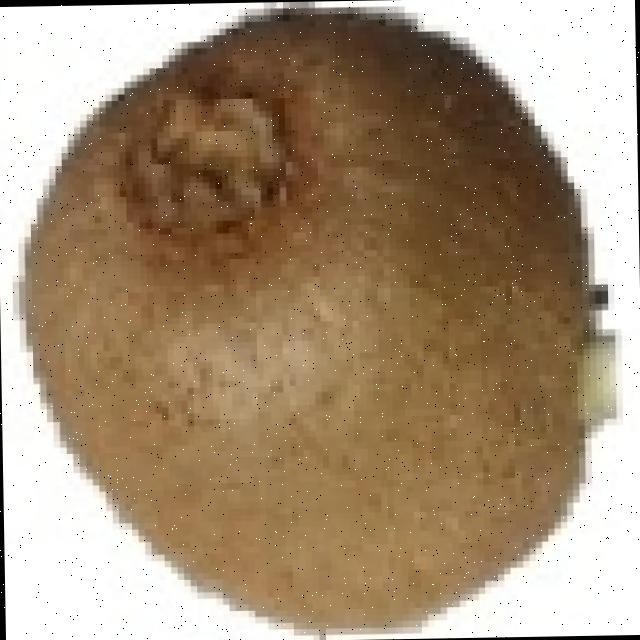kiwi: (13, 25, 603, 634)
